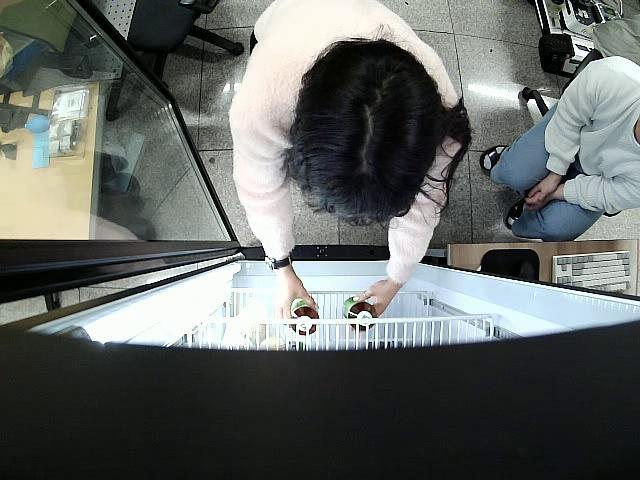19_17cha: (342, 295, 378, 332), (287, 301, 321, 338)
